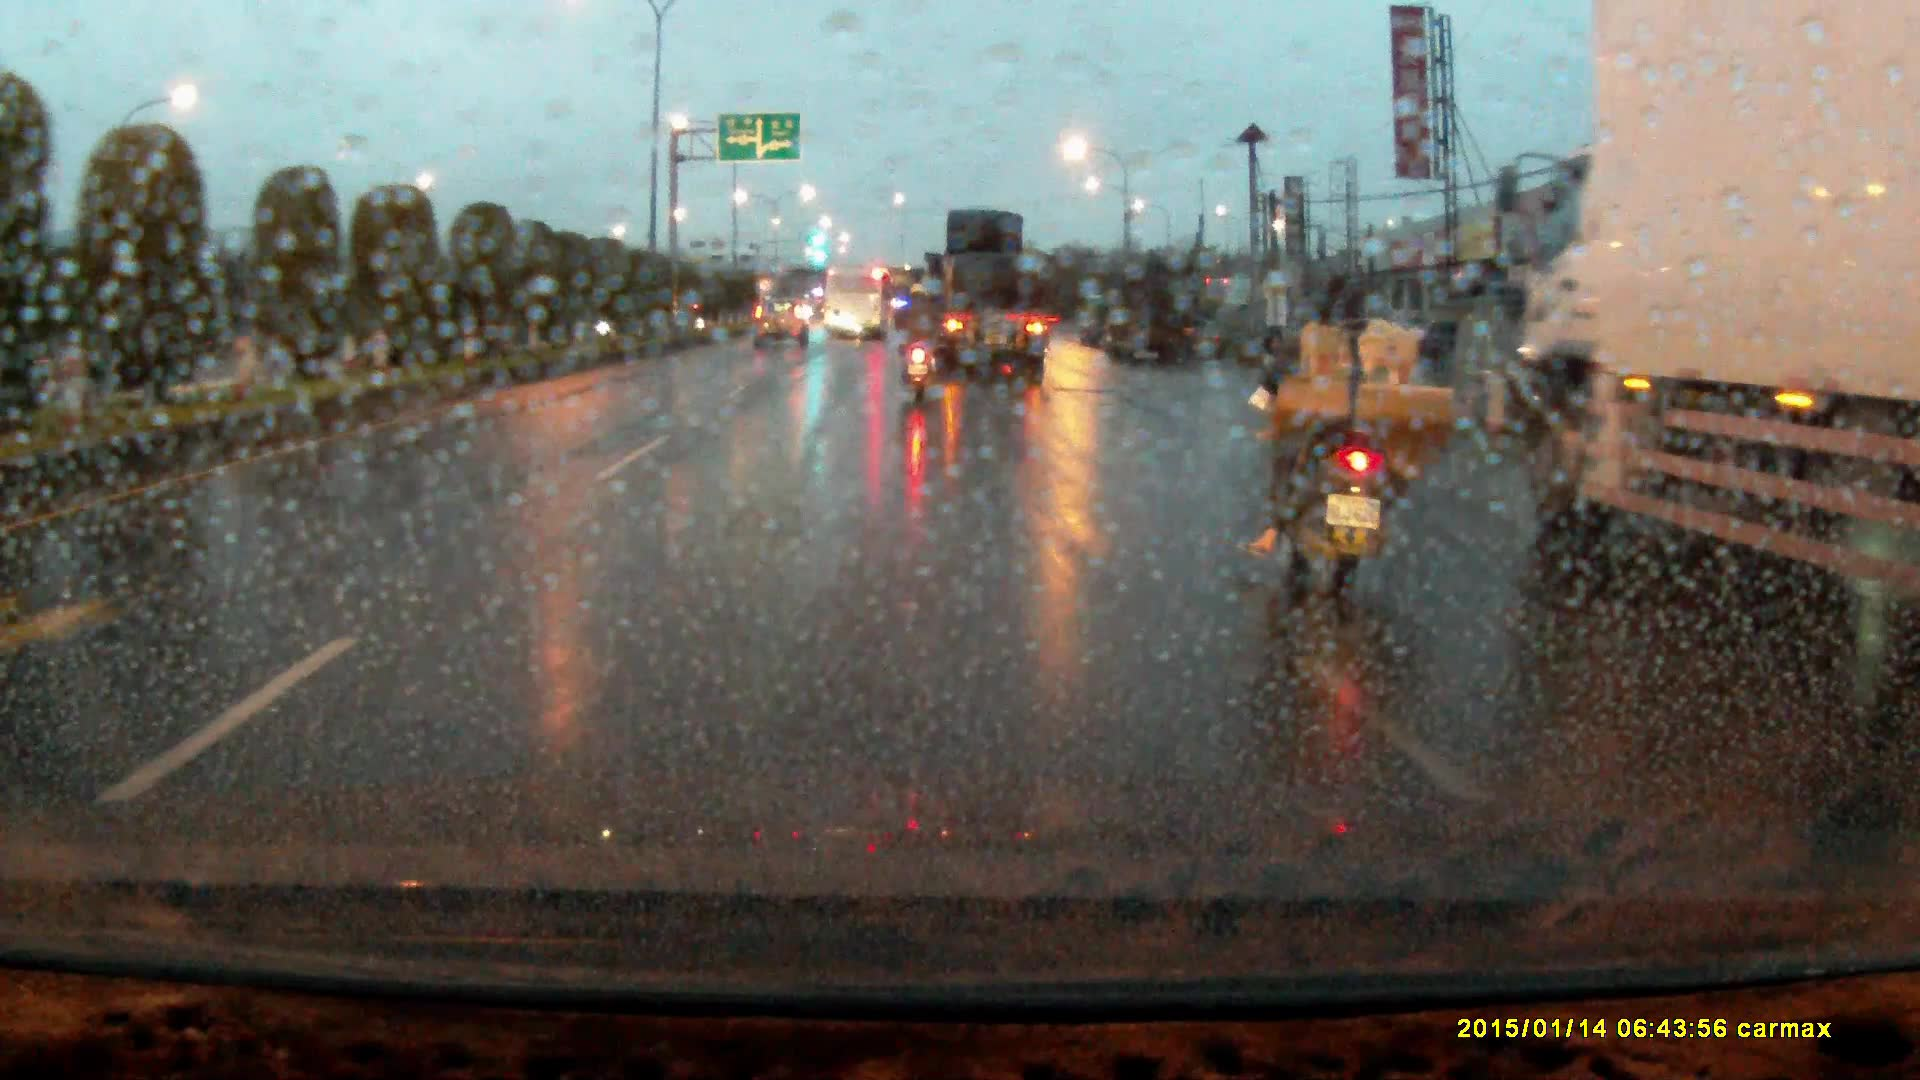rider: (1246, 252, 1462, 614), (901, 274, 948, 390)
vehicle: (1500, 1, 1920, 603), (907, 208, 1051, 386), (1113, 257, 1202, 361), (826, 266, 894, 345), (755, 292, 811, 340), (1076, 293, 1122, 349)
